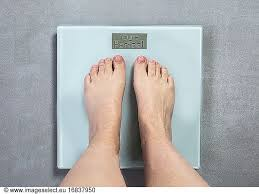feet: (132, 53, 182, 156), (79, 53, 125, 150)
